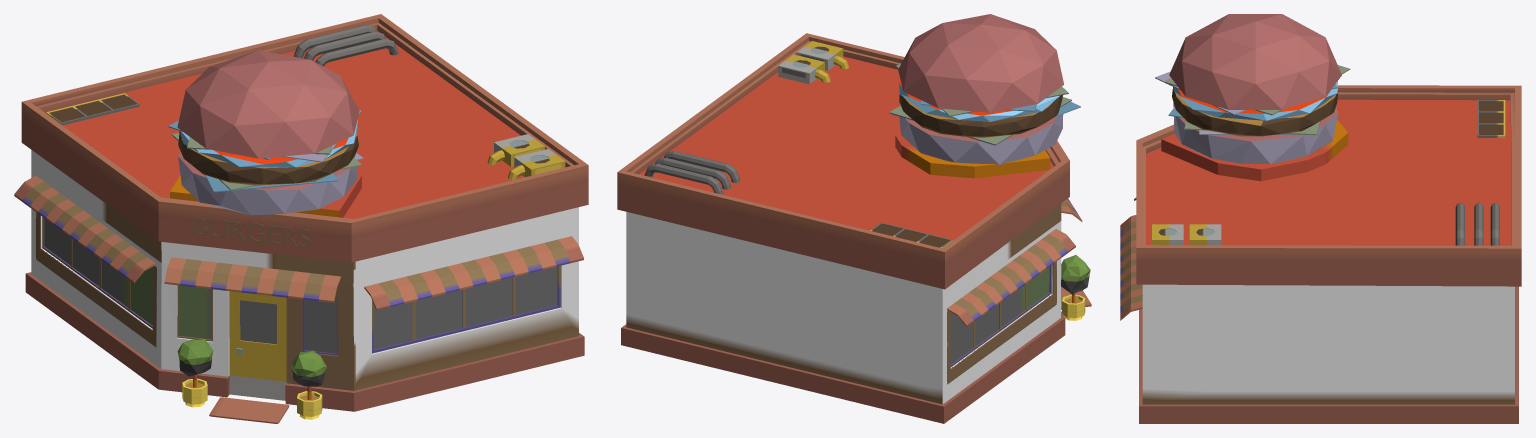
Rendered from burgers_full.fbx.
3 views of the same model, side by side, from view 1: azimuth 30°, elevation 25°; view 2: azimuth 150°, elevation 25°; view 3: azimuth 270°, elevation 25° (orthographic). The views are drawn at different scales.
Visible parts, largest first — view 1: Burgers; view 2: Burgers; view 3: Burgers.
Boxes of the visible parts, bbox=[...] form: Burgers: bbox=[14, 14, 588, 423]; Burgers: bbox=[617, 14, 1091, 423]; Burgers: bbox=[1120, 14, 1521, 423].
Size of the model in its own units: 1472 by 1162 by 1469.
